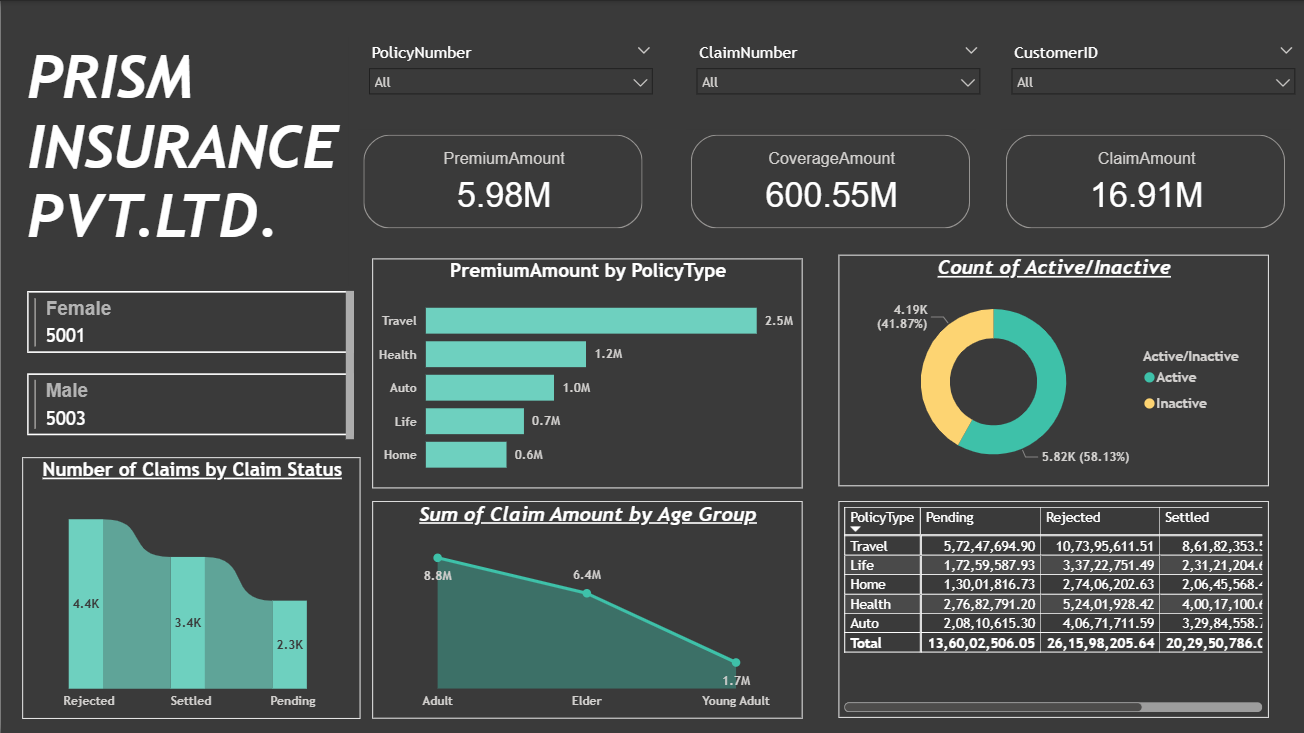

This screenshot's page, from the dashboard's own definition file:
{"tool":"powerbi","page":{"name":"Page 1","canvas":[1280,720],"ordinal":0},"visuals":[{"type":"slicer","fields":{"Values":["InsuranceData.PolicyNumber"]},"box":[351.3,35.7,299.1,70],"z":0},{"type":"slicer","fields":{"Values":["InsuranceData.ClaimNumber"]},"box":[672.4,35.7,299.1,70],"z":1000},{"type":"slicer","fields":{"Values":["InsuranceData.CustomerID"]},"box":[981.1,35.7,299.1,70],"z":2000},{"type":"textbox","box":[20.6,35.7,319.7,297.8],"z":3000},{"type":"cardVisual","fields":{"Data":["Sum(InsuranceData.PremiumAmount)"]},"box":[351.3,126.2,284,102.9],"z":4000},{"type":"cardVisual","fields":{"Data":["Sum(InsuranceData.CoverageAmount)"]},"box":[672.4,126.2,284,102.9],"z":5000},{"type":"cardVisual","fields":{"Data":["Sum(InsuranceData.ClaimAmount)"]},"box":[981.1,126.2,284,102.9],"z":6000},{"type":"multiRowCard","fields":{"Values":["InsuranceData.Gender","CountNonNull(InsuranceData.Gender)"]},"box":[20.6,279.9,330.7,167.4],"z":6001},{"type":"ribbonChart","title":"Number of Claims by Claim Status","fields":{"Category":["InsuranceData.ClaimStatus"],"Y":["CountNonNull(InsuranceData.ClaimStatus)"]},"box":[20.6,447.3,332.1,256.6],"z":6002},{"type":"barChart","title":"PremiumAmount by PolicyType","fields":{"Category":["InsuranceData.PolicyType"],"Y":["Sum(InsuranceData.PremiumAmount)"]},"box":[364.4,252.8,422.1,225.8],"z":6003},{"type":"lineChart","title":"Sum of Claim Amount by Age Group","fields":{"Y":["Sum(InsuranceData.ClaimAmount)"],"Category":["InsuranceData.Age Group"]},"box":[364.4,490.8,422.1,213.5],"z":6004},{"type":"donutChart","title":"Count of Active/Inactive ","fields":{"Category":["InsuranceData.Active/Inactive"],"Y":["CountNonNull(InsuranceData.Active/Inactive)"]},"box":[822.1,249.1,422.1,227],"z":6005},{"type":"pivotTable","fields":{"Columns":["InsuranceData.ClaimStatus"],"Values":["Sum(InsuranceData.CoverageAmount)"],"Rows":["InsuranceData.PolicyType"]},"box":[822,491,422,213],"z":6006}]}

Visuals, with their boxes in screenshot pixels (x1, y1, x2, y2), scaled from the page's 1280x720 canvas onto the 1304x733 screenshot:
slicer - InsuranceData.PolicyNumber: detection(358, 36, 663, 108)
slicer - InsuranceData.ClaimNumber: detection(685, 36, 990, 108)
slicer - InsuranceData.CustomerID: detection(999, 36, 1303, 108)
textbox: detection(21, 36, 347, 340)
cardVisual - Sum(InsuranceData.PremiumAmount): detection(358, 128, 647, 233)
cardVisual - Sum(InsuranceData.CoverageAmount): detection(685, 128, 974, 233)
cardVisual - Sum(InsuranceData.ClaimAmount): detection(999, 128, 1289, 233)
multiRowCard - InsuranceData.Gender x CountNonNull(InsuranceData.Gender): detection(21, 285, 358, 455)
"Number of Claims by Claim Status" ribbonChart: detection(21, 455, 359, 717)
"PremiumAmount by PolicyType" barChart: detection(371, 257, 801, 487)
"Sum of Claim Amount by Age Group" lineChart: detection(371, 500, 801, 717)
"Count of Active/Inactive " donutChart: detection(838, 254, 1268, 485)
pivotTable - InsuranceData.ClaimStatus x Sum(InsuranceData.CoverageAmount): detection(837, 500, 1267, 717)
